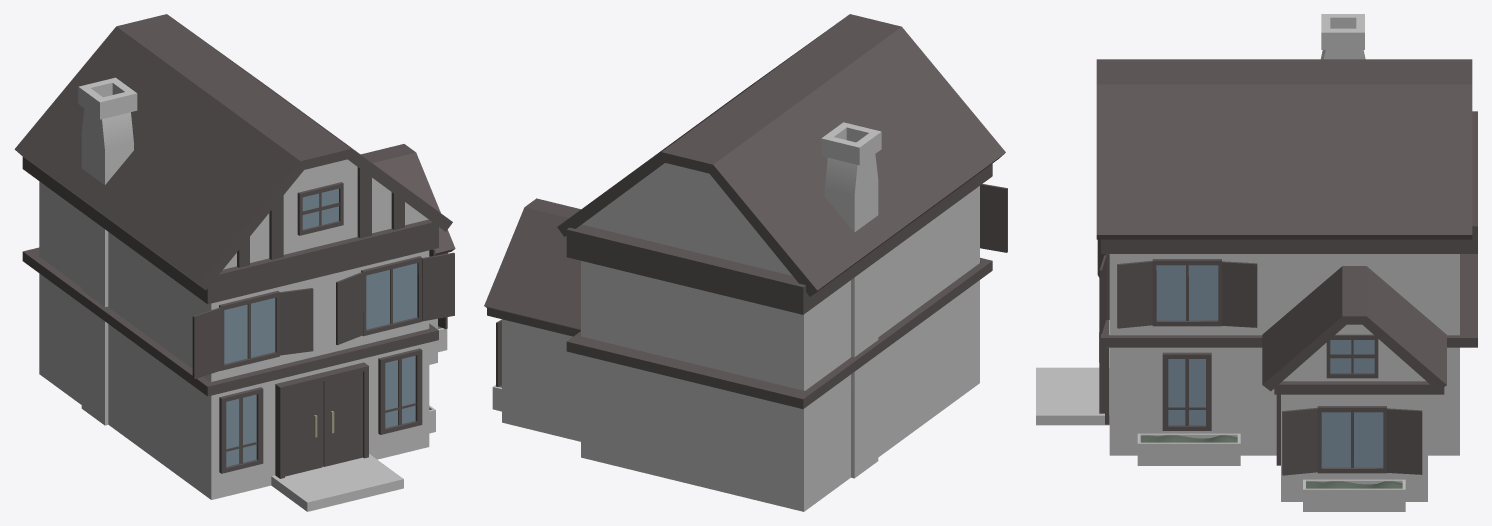
Rendered from Building_Auberge.fbx.
3 views of the same model, side by side, from view 1: azimuth 30°, elevation 25°; view 2: azimuth 150°, elevation 25°; view 3: azimuth 270°, elevation 25° (orthographic). The views are drawn at different scales.
Parts seen in each view (by area): view 1: Auberge; view 2: Auberge; view 3: Auberge.
Part boxes in pixels (box(x1,y1,x2,y2)): Auberge: box(14, 14, 455, 511); Auberge: box(484, 14, 1007, 511); Auberge: box(1036, 14, 1477, 511).
Size of the model in its own units: 872 by 763 by 926.
